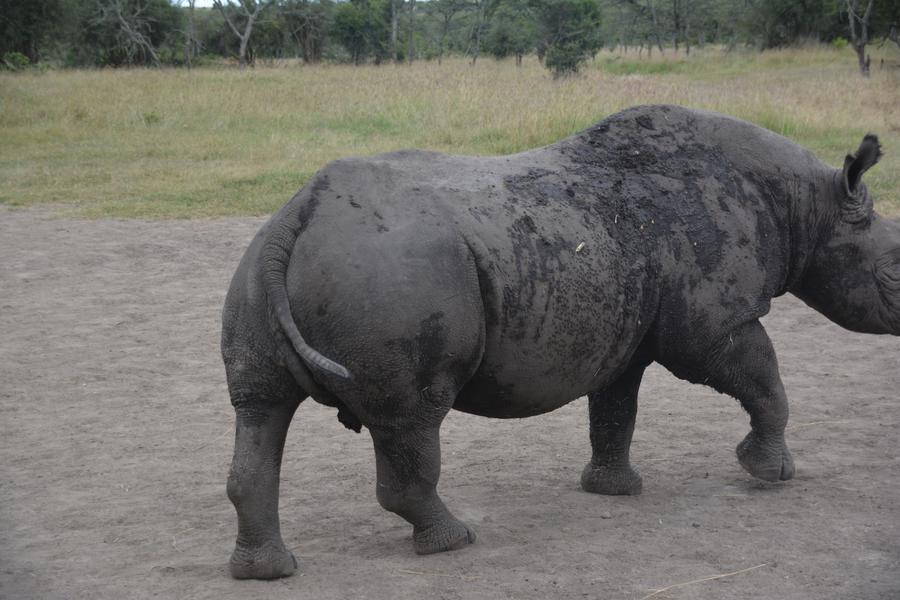rhino: (215, 100, 866, 555)
